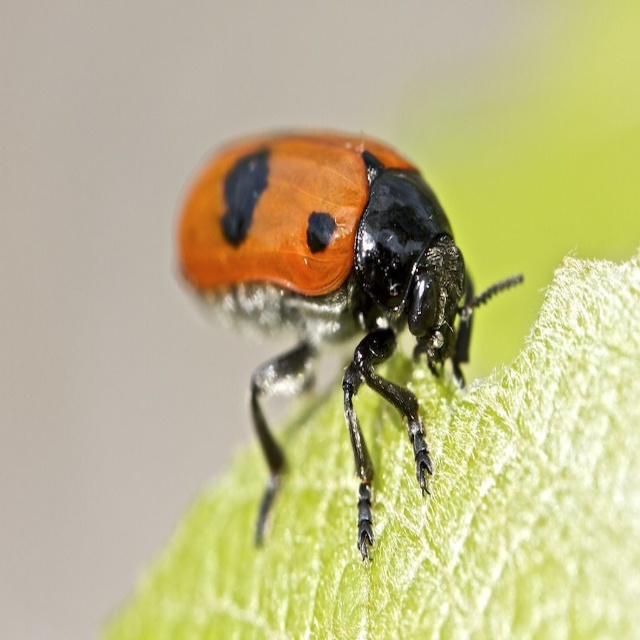Ladybug: (173, 128, 520, 552)
